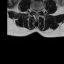CCS_stenosis: (36, 8, 37, 16)
LFS_stenosis: (39, 8, 41, 13)
LLS_normal: (37, 8, 39, 14)
RFS_normal: (32, 7, 34, 13)
RLS_stenosis: (34, 8, 36, 14)
